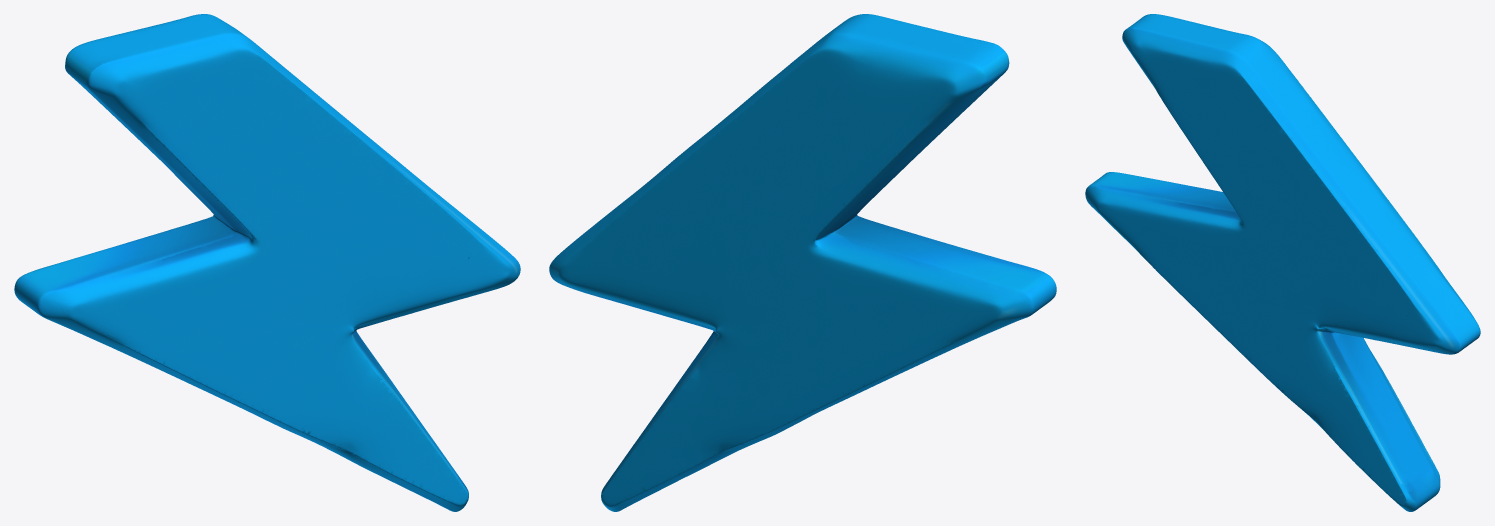
File: Impulso Fibra.fbx
The picture shows the model from 3 angles, left to right: view 1: azimuth 30°, elevation 25°; view 2: azimuth 150°, elevation 25°; view 3: azimuth 330°, elevation 25°; orthographic projection. The views are drawn at different scales.
Visible parts, largest first — view 1: Mesh_0; view 2: Mesh_0; view 3: Mesh_0.
Boxes of the visible parts, left/top/right/bottom form: Mesh_0: left=14, top=14, right=520, bottom=511; Mesh_0: left=549, top=14, right=1056, bottom=511; Mesh_0: left=1085, top=14, right=1480, bottom=511.
Size of the model in its own units: 179 by 190 by 27.63.
1 material, 1 textured.
